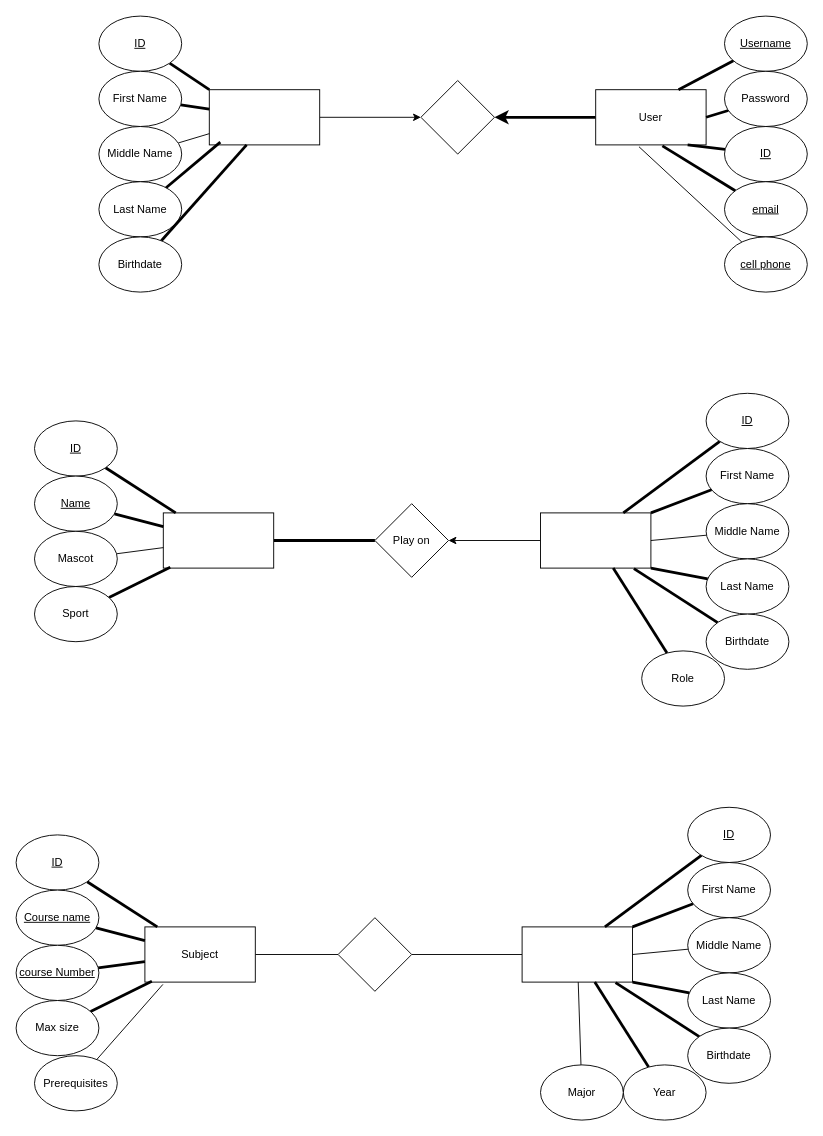
Some shapes in this 823 by 1136 pixel diagram are drawn without their labels. Here are the shapes that lost their labels. From the top down, the centre of each, then its label:
At pixel 264 117: "Person".
At pixel 457 117: "Is a".
At pixel 218 540: "Team".
At pixel 595 540: "Players".
At pixel 374 954: "Studies".
At pixel 576 954: "Student".
